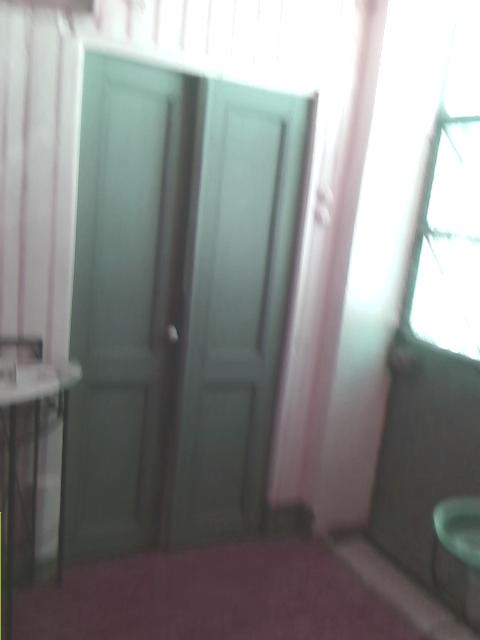closed_door: (61, 41, 317, 562)
